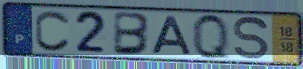2: (74, 8, 111, 58)
A: (151, 15, 195, 57)
B: (112, 11, 153, 57)
C: (33, 9, 72, 54)
Q: (190, 11, 233, 62)
S: (232, 15, 271, 62)
